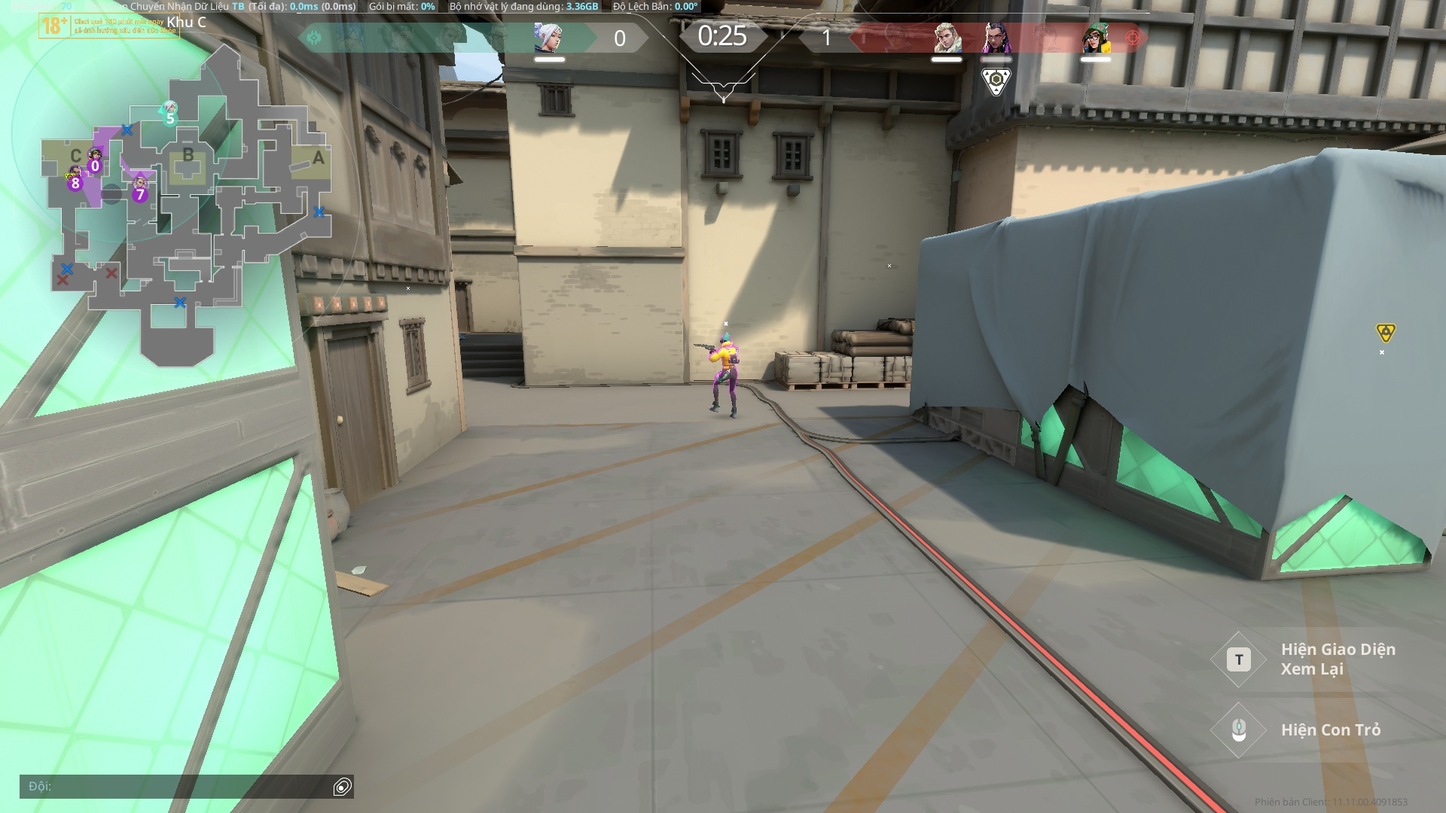body: (718, 344, 739, 368)
head: (718, 336, 731, 346)
